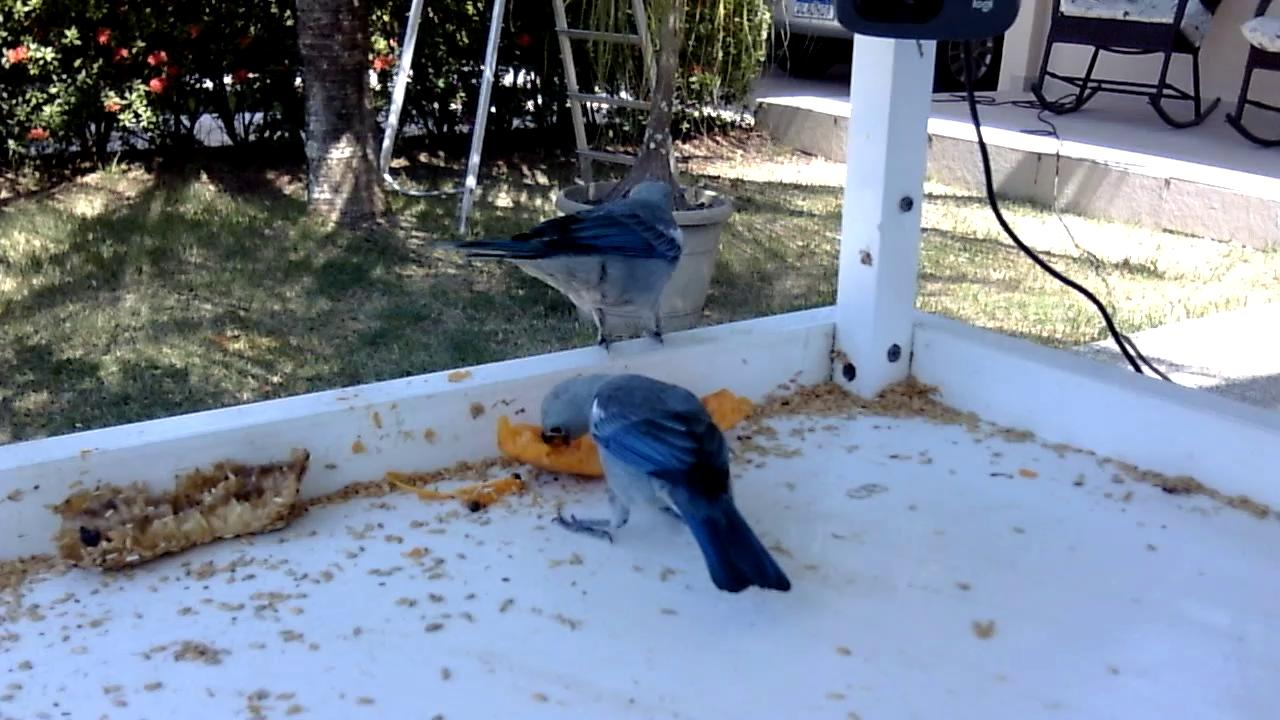sanhaco_da_amazonia: (537, 370, 796, 597), (445, 177, 686, 355)
